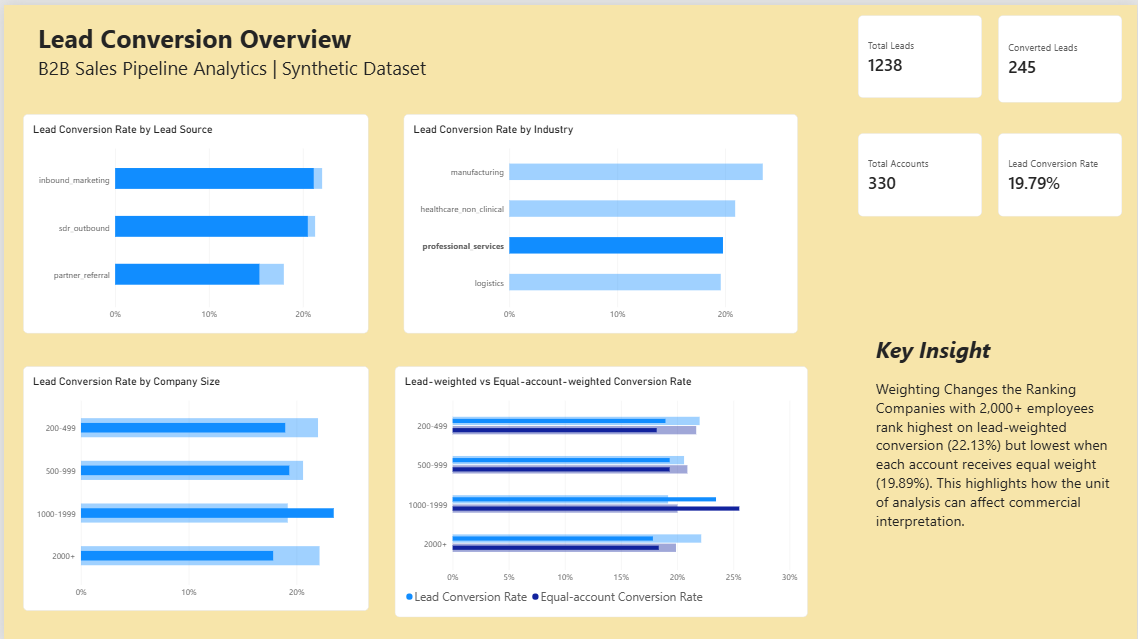

The page's visual inventory and layout, read from the dashboard file:
{"tool":"powerbi","page":{"name":"Page 1","canvas":[1920,1080],"ordinal":0},"visuals":[{"type":"cardVisual","fields":{"Data":["analytics vw_leads_reporting.Total Leads"]},"box":[1448.6,17.1,210,140],"z":0},{"type":"cardVisual","fields":{"Data":["analytics vw_accounts.Converted Leads"]},"box":[1684.3,17.1,210,148.6],"z":1000},{"type":"cardVisual","fields":{"Data":["analytics vw_accounts.Total Accounts"]},"box":[1448.6,217.1,210,141.4],"z":2000},{"type":"cardVisual","fields":{"Data":["analytics vw_leads_reporting.Lead Conversion Rate"]},"box":[1684.3,217.1,210,141.4],"z":3000},{"type":"clusteredBarChart","title":"Lead Conversion Rate by Lead Source","fields":{"Category":["analytics vw_leads_reporting.lead_source"],"Y":["analytics vw_leads_reporting.Lead Conversion Rate"]},"box":[31.2,185,585,371.2],"z":4000},{"type":"clusteredBarChart","title":"Lead Conversion Rate by Industry","fields":{"Category":["analytics vw_accounts.industry"],"Y":["analytics vw_leads_reporting.Lead Conversion Rate"]},"box":[677.5,185,667.5,371.2],"z":5000},{"type":"clusteredBarChart","title":"Lead Conversion Rate by Company Size","fields":{"Category":["analytics vw_accounts.employee_band"],"Y":["analytics vw_leads_reporting.Lead Conversion Rate"]},"box":[31.4,611.4,585.7,414.3],"z":6000},{"type":"clusteredBarChart","title":"Lead-weighted vs Equal-account-weighted Conversion Rate","fields":{"Category":["analytics vw_accounts.employee_band"],"Y":["analytics vw_leads_reporting.Lead Conversion Rate","analytics vw_accounts.Equal-account Conversion Rate"]},"box":[662.9,611.4,700,425],"z":7000},{"type":"textbox","box":[57.5,27.5,917.5,112.5],"z":8000},{"type":"textbox","box":[976,0,499,150],"z":9000},{"type":"textbox","box":[1476.7,556.7,418.3,375],"z":10000}]}

Visuals, with their boxes in screenshot pixels (x1, y1, x2, y2), scaled from the page's 1920x1080 canvas onto the 1138x639 screenshot:
cardVisual - analytics vw_leads_reporting.Total Leads: [left=859, top=10, right=983, bottom=93]
cardVisual - analytics vw_accounts.Converted Leads: [left=998, top=10, right=1123, bottom=98]
cardVisual - analytics vw_accounts.Total Accounts: [left=859, top=128, right=983, bottom=212]
cardVisual - analytics vw_leads_reporting.Lead Conversion Rate: [left=998, top=128, right=1123, bottom=212]
"Lead Conversion Rate by Lead Source" clusteredBarChart: [left=18, top=109, right=365, bottom=329]
"Lead Conversion Rate by Industry" clusteredBarChart: [left=402, top=109, right=797, bottom=329]
"Lead Conversion Rate by Company Size" clusteredBarChart: [left=19, top=362, right=366, bottom=607]
"Lead-weighted vs Equal-account-weighted Conversion Rate" clusteredBarChart: [left=393, top=362, right=808, bottom=613]
textbox: [left=34, top=16, right=578, bottom=83]
textbox: [left=578, top=0, right=874, bottom=89]
textbox: [left=875, top=329, right=1123, bottom=551]
